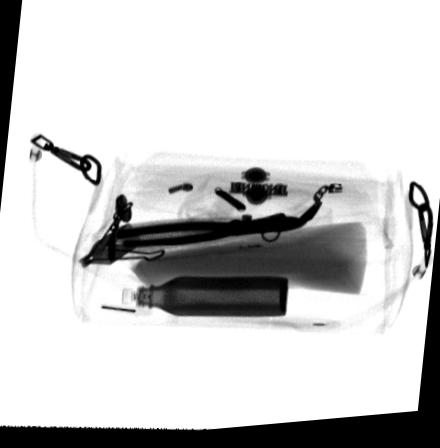Pliers: (112, 204, 324, 252)
